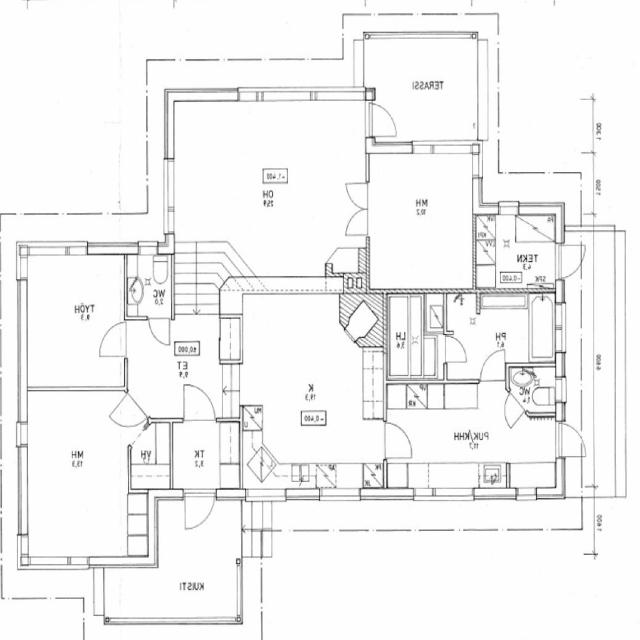door: (107, 392, 149, 443), (185, 488, 214, 536), (184, 381, 214, 422), (366, 102, 402, 136), (495, 391, 526, 430), (555, 424, 591, 456), (382, 423, 414, 458), (555, 246, 590, 277), (97, 322, 128, 356), (480, 349, 504, 384), (148, 316, 170, 346), (443, 336, 468, 362), (345, 209, 369, 235), (345, 183, 369, 209)
